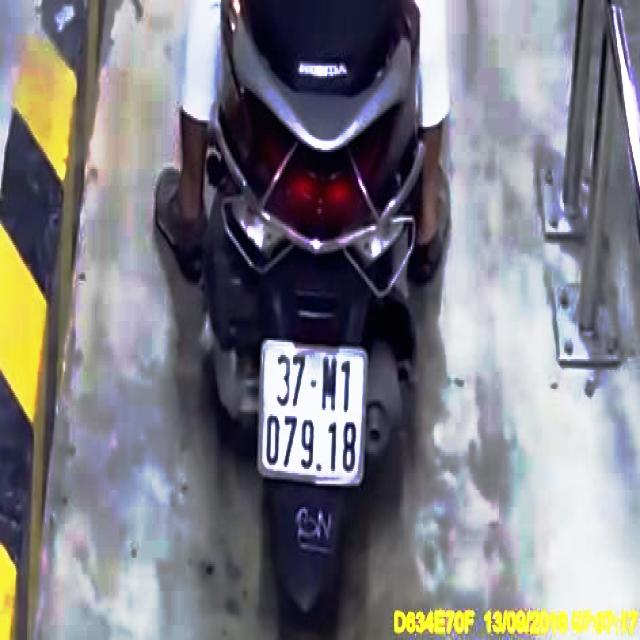license_plate: (260, 342, 368, 481)
